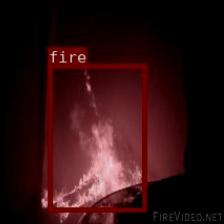fire: (48, 63, 146, 211)
